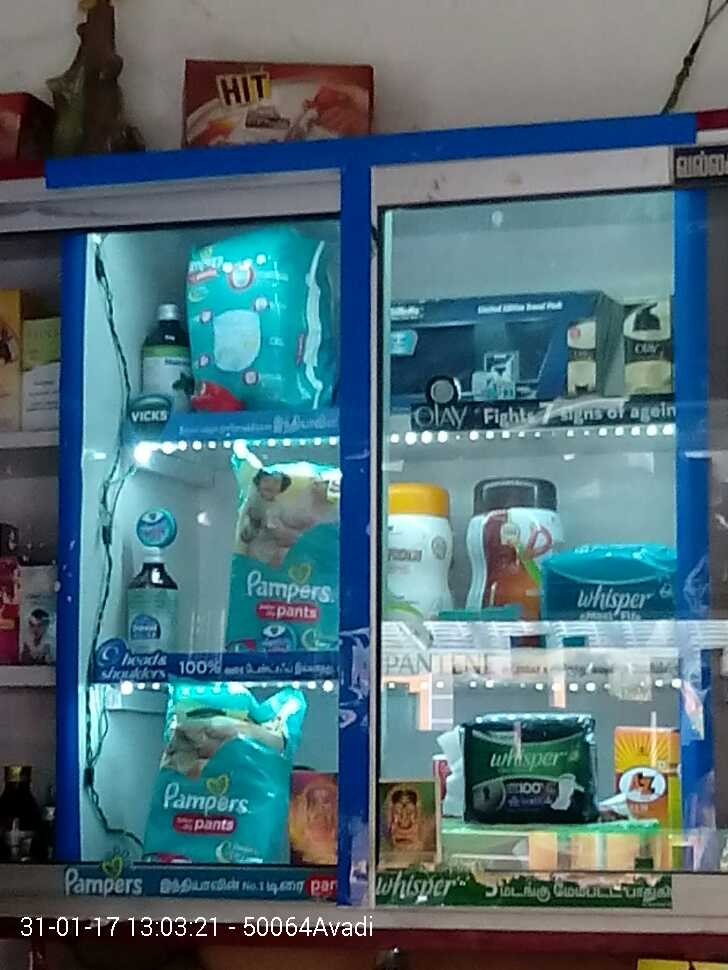beauty: (620, 298, 673, 404), (558, 316, 598, 405)
pharmacy: (151, 690, 304, 869), (210, 449, 337, 657), (174, 237, 315, 409), (457, 702, 586, 835), (539, 544, 684, 627)
